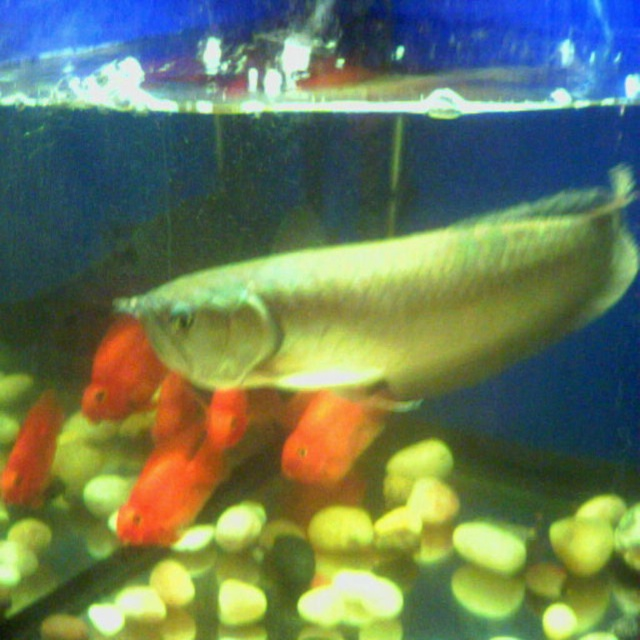Goldfish: (1, 156, 640, 546)
